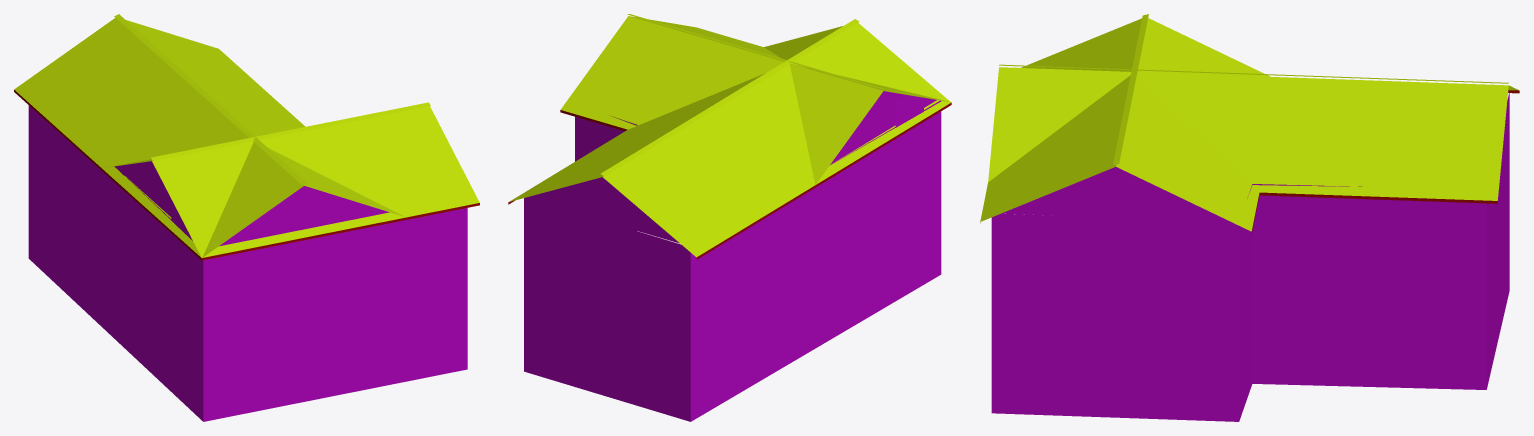
File: bgj_316.glb
The picture shows the model from 3 angles, left to right: view 1: azimuth 30°, elevation 25°; view 2: azimuth 150°, elevation 25°; view 3: azimuth 270°, elevation 25°; orthographic projection. The views are drawn at different scales.
Parts seen in each view (by area): view 1: bgj_316; view 2: bgj_316; view 3: bgj_316.
Boxes of the visible parts, x1,y1,x2,y2 form: bgj_316: (14,14,479,421); bgj_316: (508,14,951,421); bgj_316: (980,14,1519,421).
Bounding box in the file's own units: 14.17 × 10.7 × 20.25.
